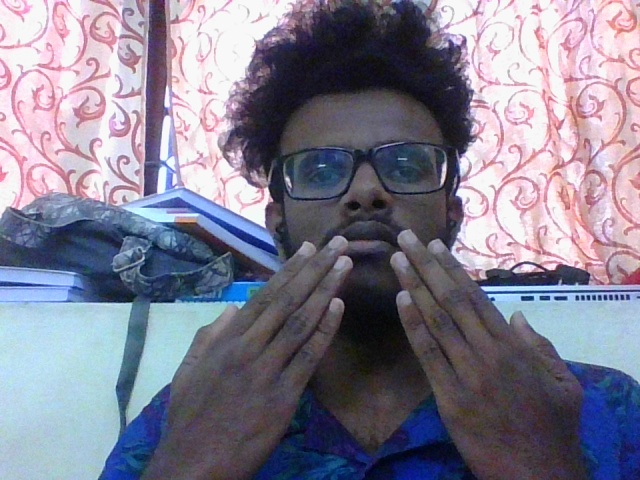thank: (173, 224, 591, 461)
